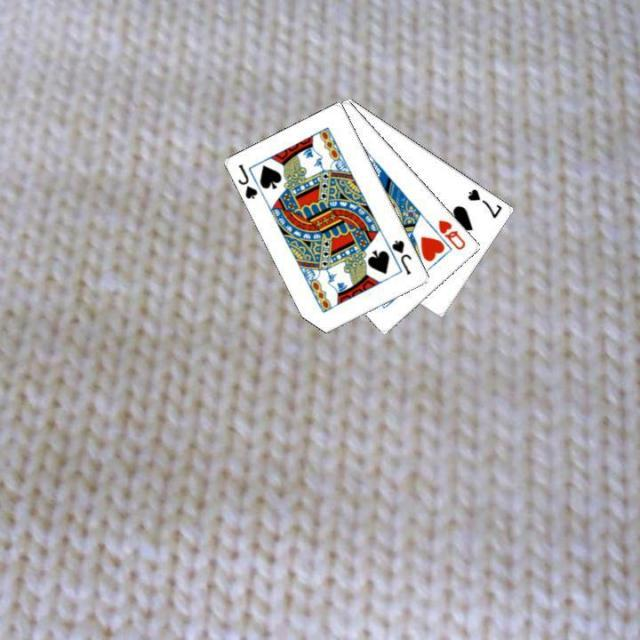7S: (464, 184, 505, 220)
JS: (234, 160, 260, 201), (388, 236, 413, 276)
QH: (434, 216, 468, 252)
